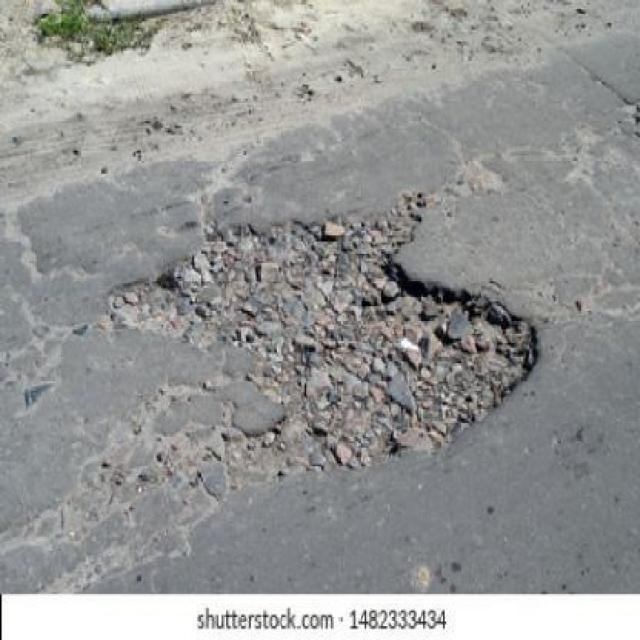Buraco: (99, 184, 546, 488)
